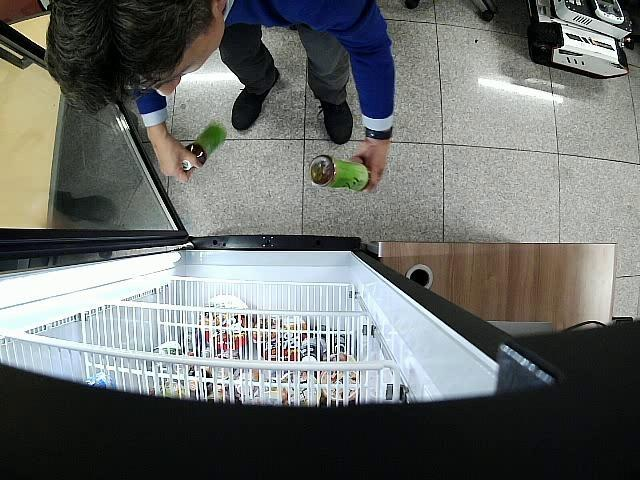19_17cha: (309, 155, 371, 192), (181, 123, 228, 170)
